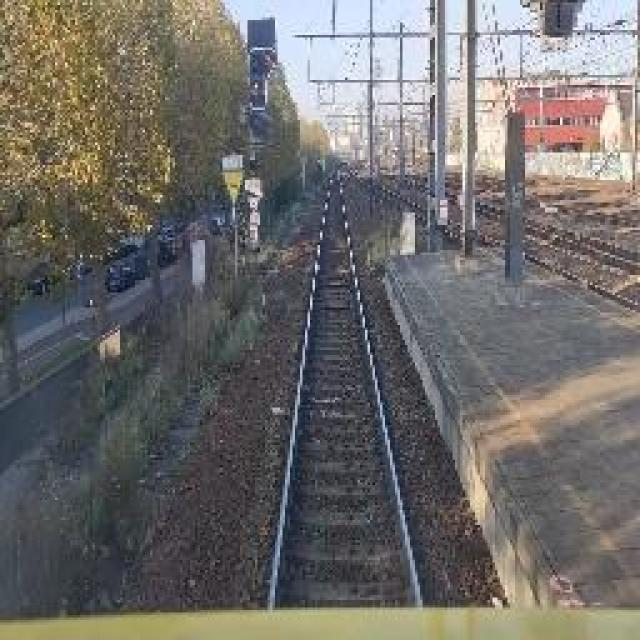rail: (233, 166, 463, 610)
